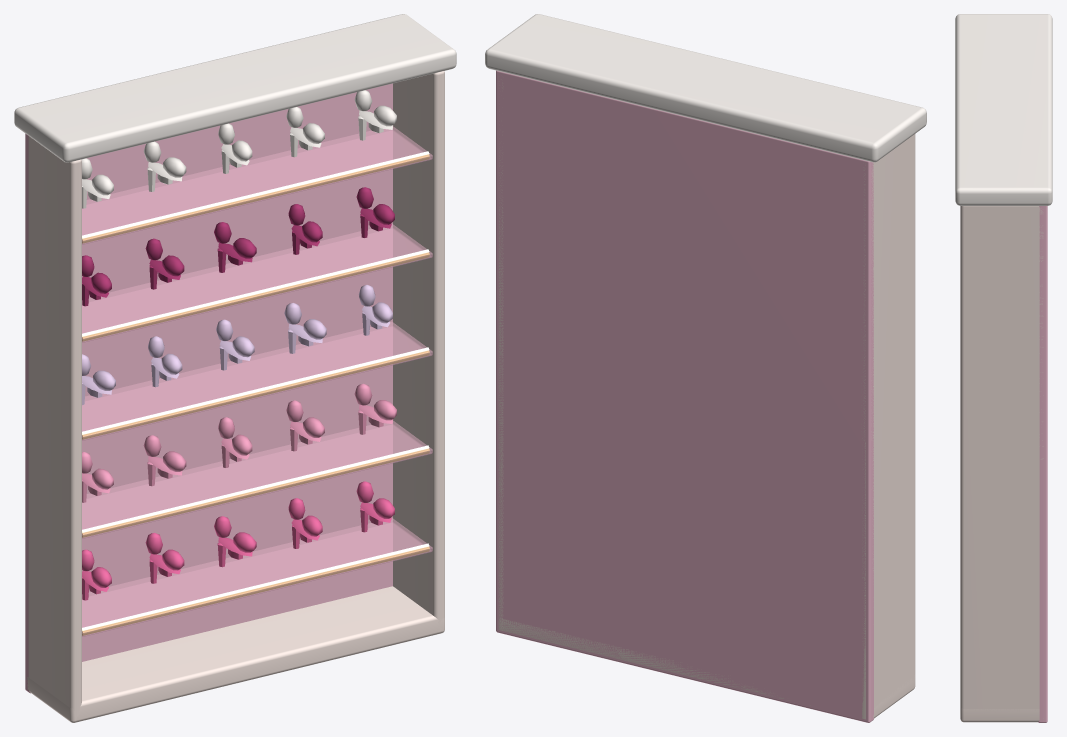
Rendered from closet_shoe_wall.glb.
3 views of the same model, side by side, from view 1: azimuth 30°, elevation 25°; view 2: azimuth 150°, elevation 25°; view 3: azimuth 270°, elevation 25° (orthographic). The views are drawn at different scales.
Parts seen in each view (by area): view 1: closet_shoe_wall; view 2: closet_shoe_wall; view 3: closet_shoe_wall.
Boxes of the visible parts, x1=… form: closet_shoe_wall: x1=14, y1=14, x2=456, y2=722; closet_shoe_wall: x1=485, y1=14, x2=926, y2=722; closet_shoe_wall: x1=955, y1=14, x2=1052, y2=722.
Bounding box in the file's own units: 1.68 × 2.38 × 0.39.
